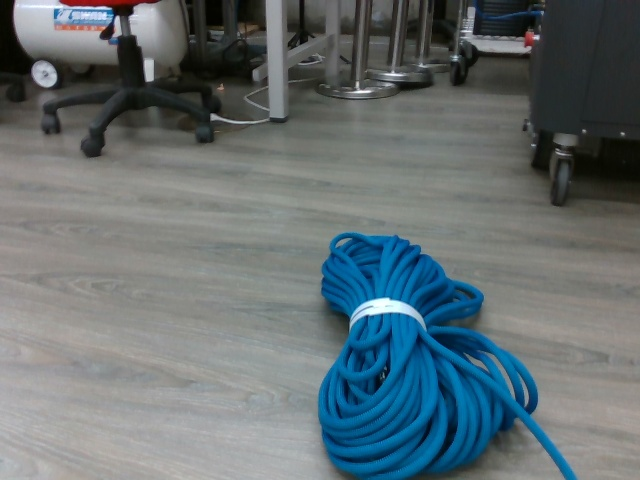rope: (310, 226, 543, 480)
